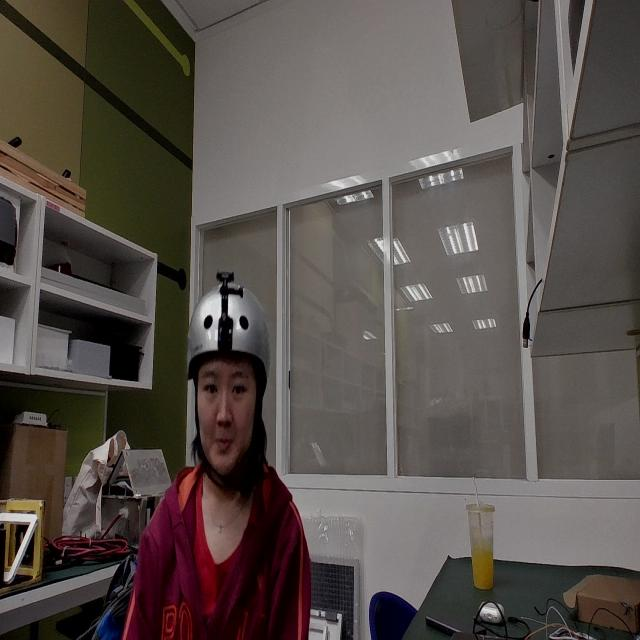With Helmet: (171, 236, 320, 499)
